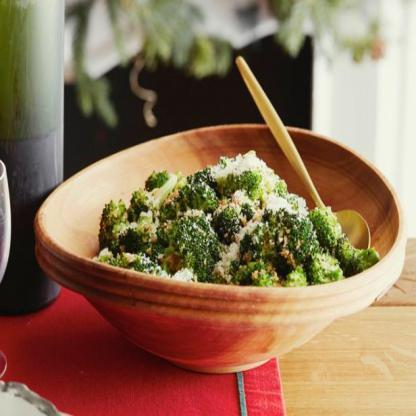broccoli: (90, 150, 379, 288)
